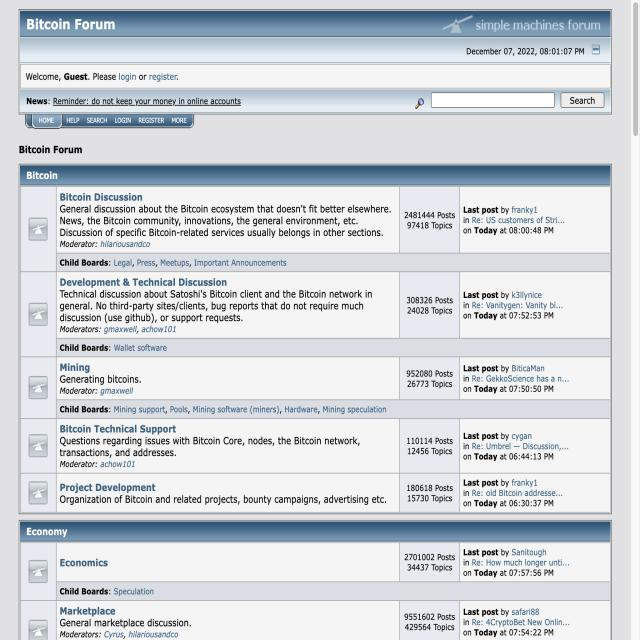button: (558, 90, 608, 111)
input field: (430, 91, 556, 110)
navigation bar: (24, 110, 196, 132)
text: (58, 190, 576, 636)
